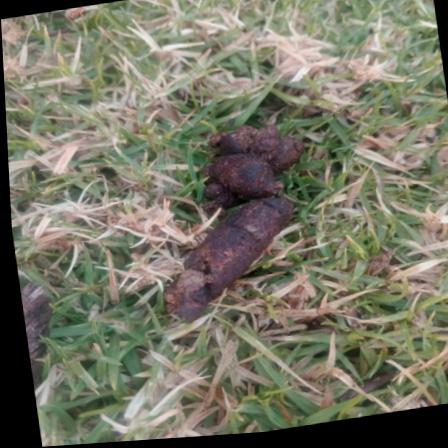dog-poop: (146, 113, 330, 339)
